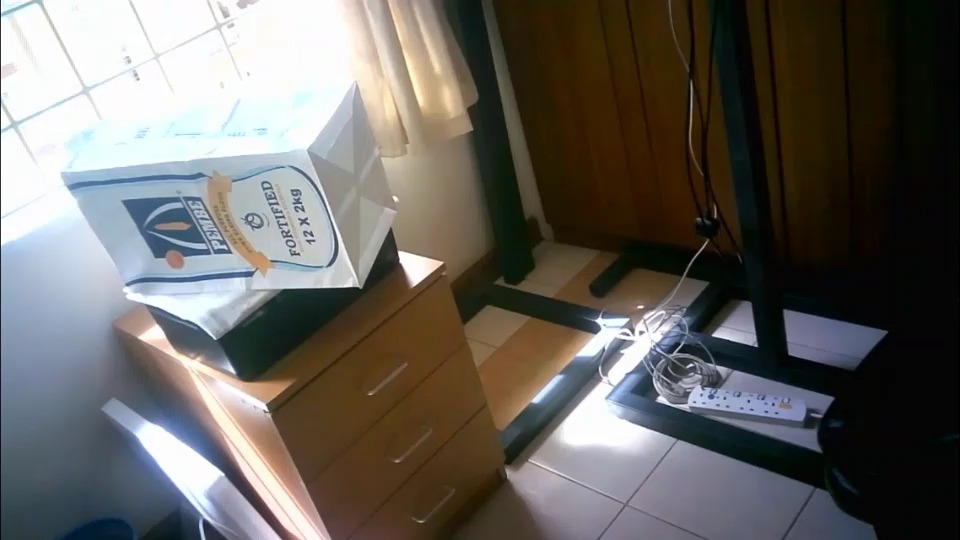wheat_flour_blue_label: (61, 81, 401, 288)
